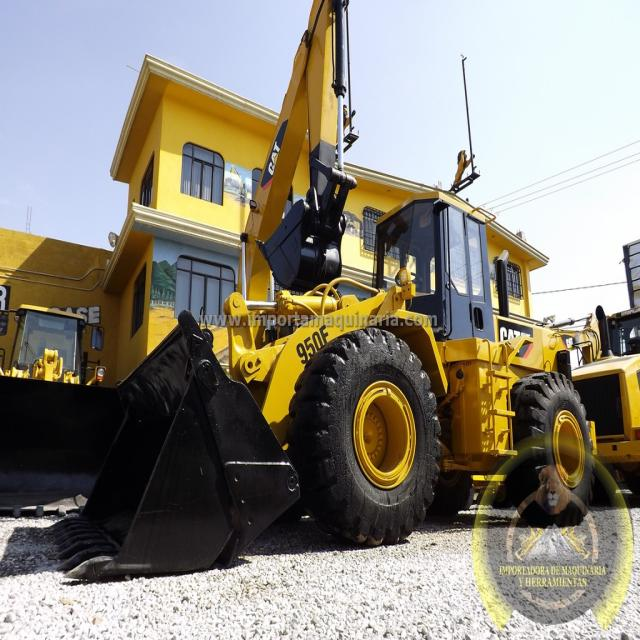buldozerpayloadergrader: (62, 185, 593, 571)
